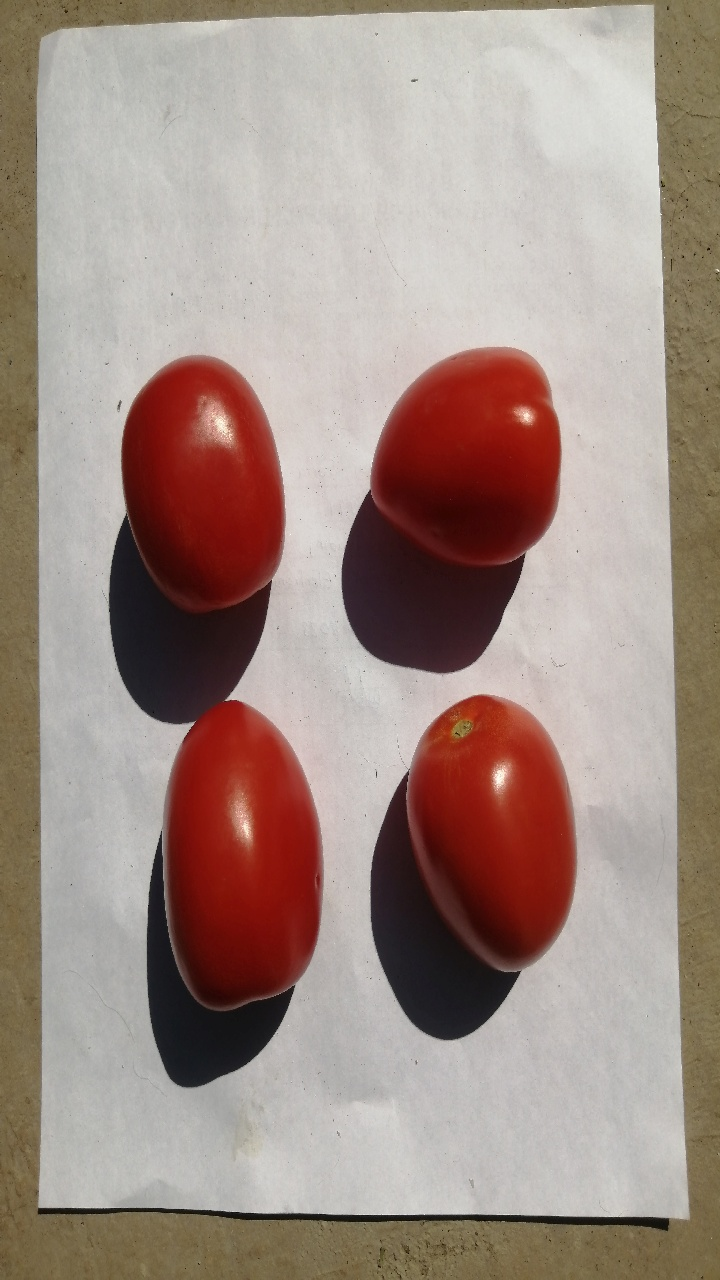tomateRojo: (397, 679, 600, 985), (143, 691, 326, 1028), (352, 323, 575, 582), (109, 335, 288, 632)
